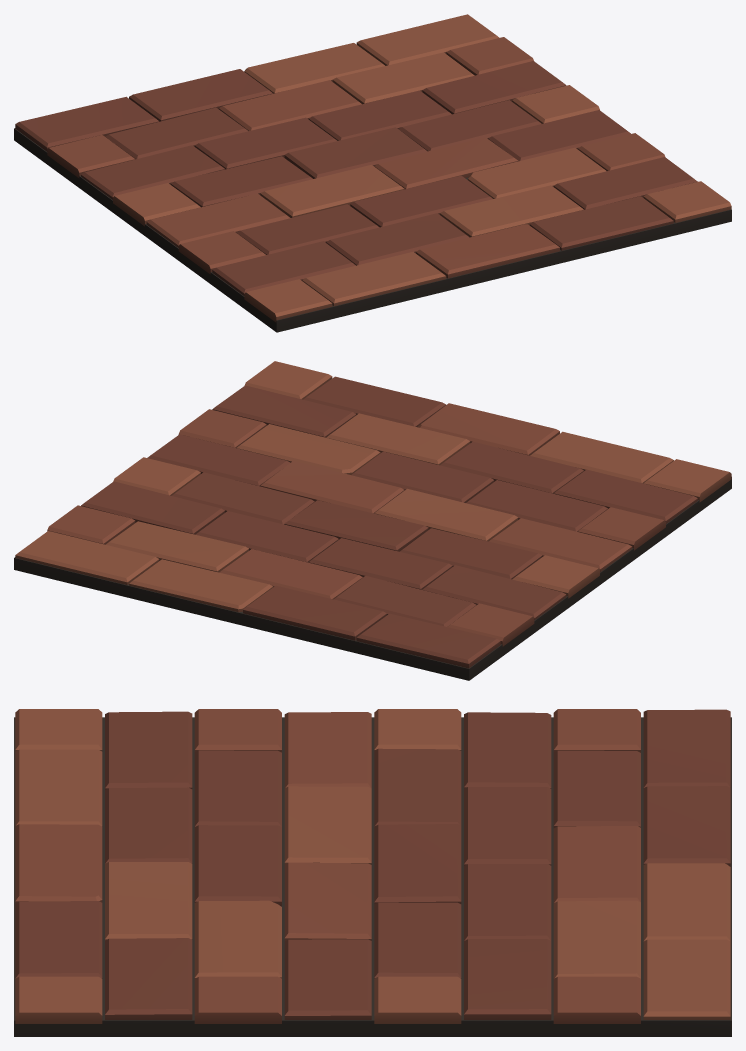
Rendered from floor_bricks_large_A.glb.
3 views of the same model, one above another, from view 1: azimuth 30°, elevation 25°; view 2: azimuth 150°, elevation 25°; view 3: azimuth 270°, elevation 25° (orthographic). The views are drawn at different scales.
Parts seen in each view (by area): view 1: Item; view 2: Item; view 3: Item.
Boxes of the visible parts, x1,y1,x2,y2 form: Item: (14, 14, 731, 332); Item: (14, 361, 731, 680); Item: (14, 709, 731, 1036).
Size of the model in its own units: 4 by 0.1598 by 4.
Materials: 1 (1 with a texture image).
